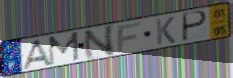A: (20, 37, 54, 71)
F: (117, 20, 143, 54)
K: (154, 15, 177, 46)
M: (47, 30, 81, 67)
N: (82, 23, 116, 62)
P: (181, 10, 209, 43)
